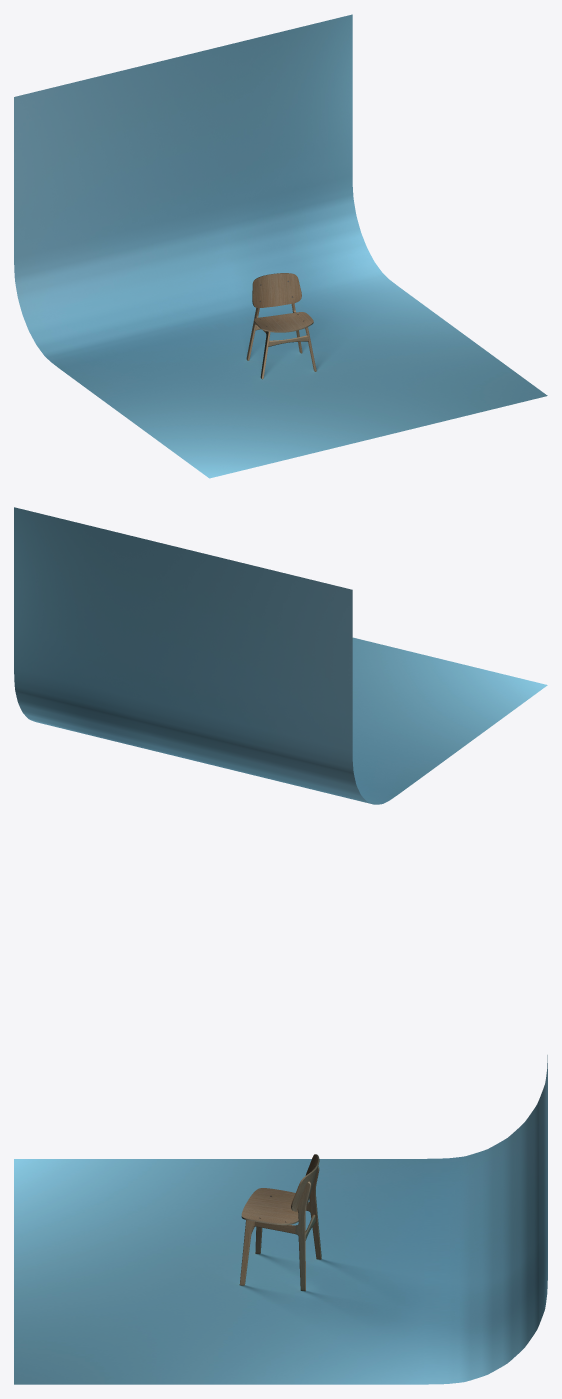
The model's file is chair.gltf.
The picture shows the model from 3 angles, top to bottom: view 1: azimuth 30°, elevation 25°; view 2: azimuth 150°, elevation 25°; view 3: azimuth 270°, elevation 25°; orthographic projection. The views are drawn at different scales.
Parts seen in each view (by area): view 1: Chair2; view 2: Chair2; view 3: Chair2.
Boxes of the visible parts, x1=… form: Chair2: x1=14, y1=14, x2=547, y2=478; Chair2: x1=14, y1=507, x2=547, y2=804; Chair2: x1=14, y1=1055, x2=547, y2=1384.
Size of the model in its own units: 3.47 by 2.34 by 3.47.
Materials: 1 (1 with a texture image).
